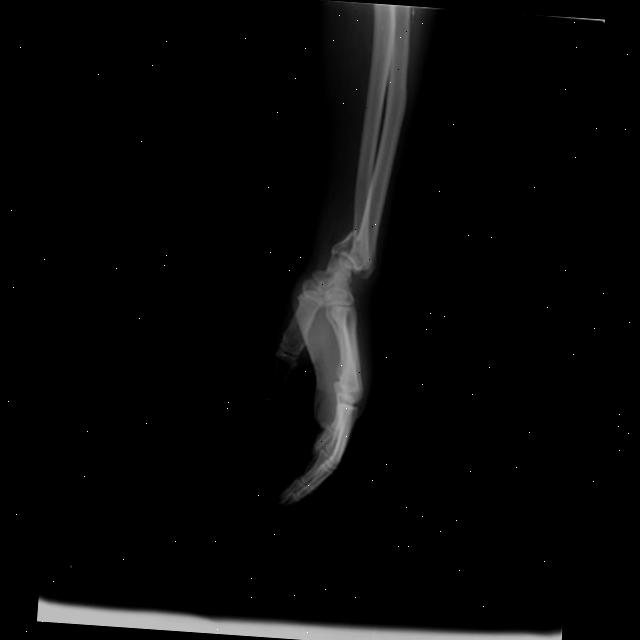Fracture: (327, 220, 377, 279)
